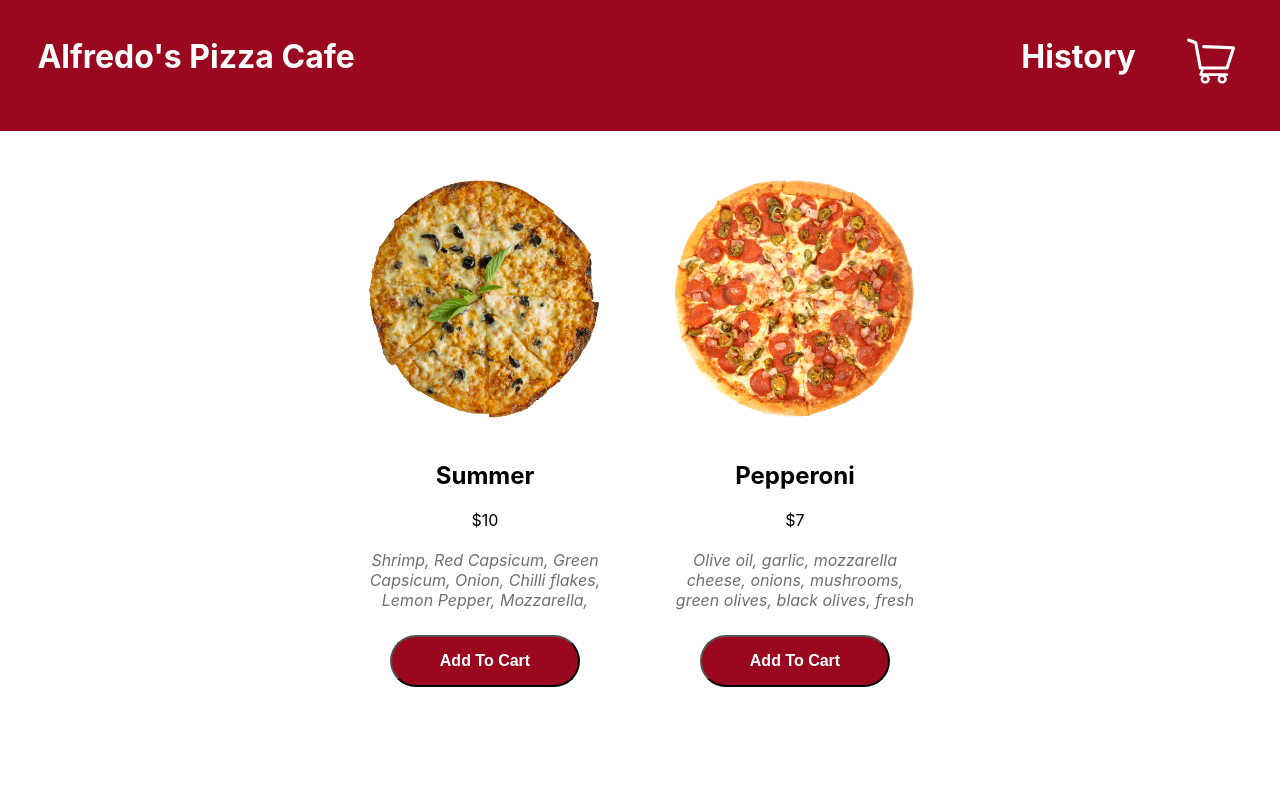
decreases the number of products
This screenshot has width=1280, height=800.
Click the button "Add To Cart" below "Summer": {"x": 485, "y": 661} [390,635,580,687]
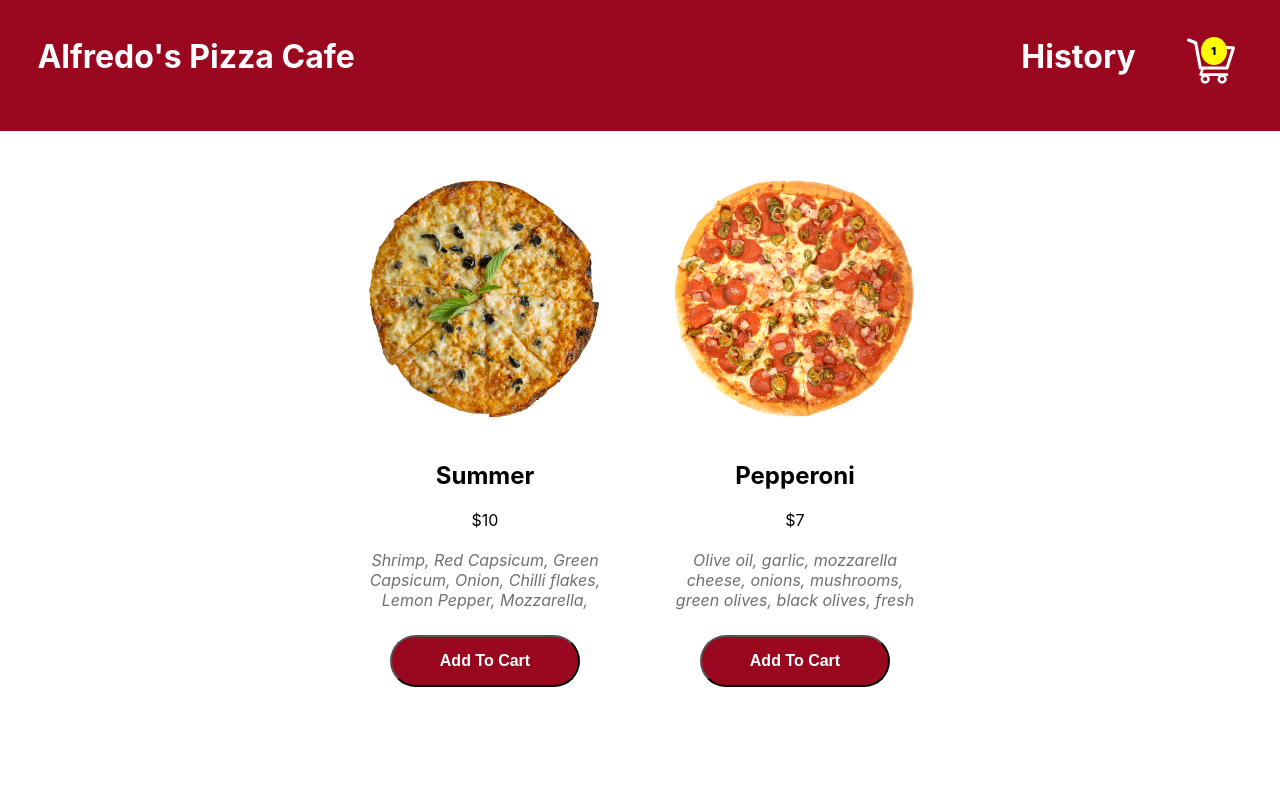
Click the button "Add To Cart" below "Summer": {"x": 485, "y": 661} [390,635,580,687]
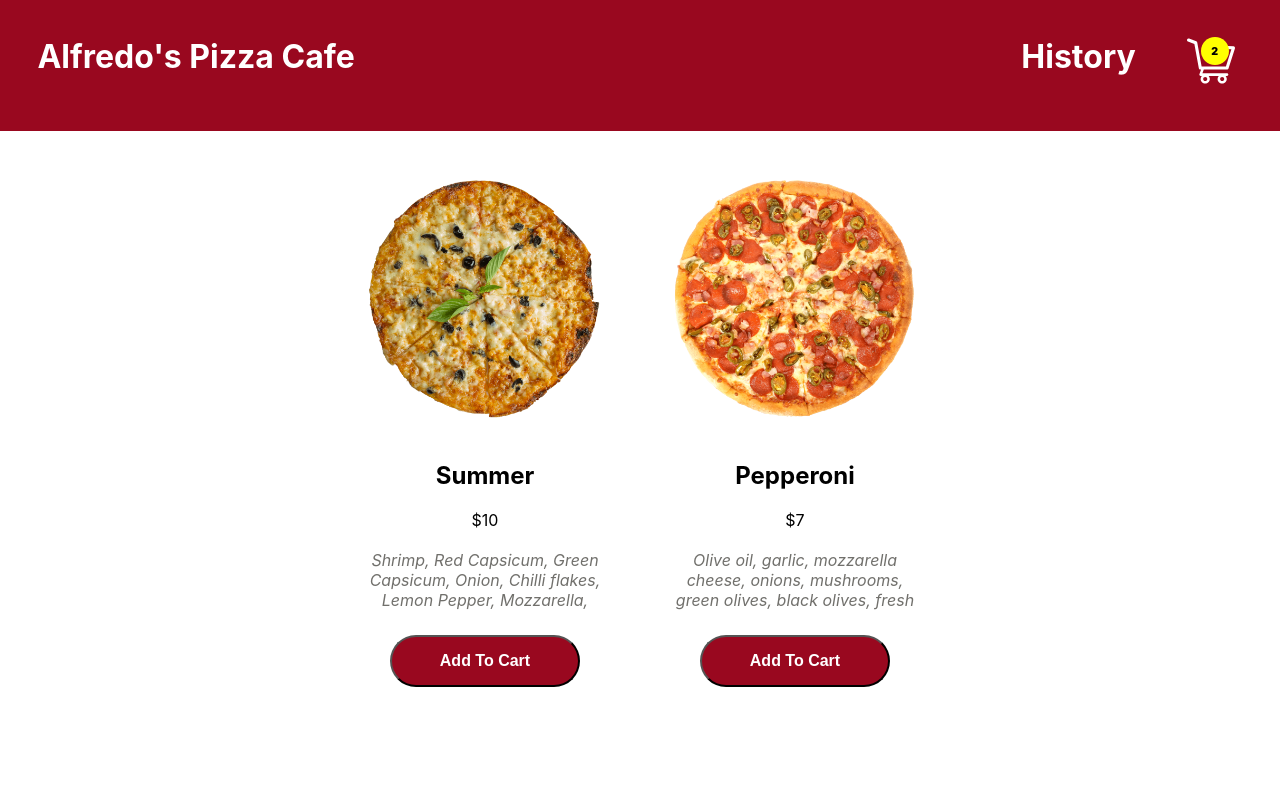
Click the button "Add To Cart" below "Pepperoni": {"x": 795, "y": 661} [700,635,890,687]
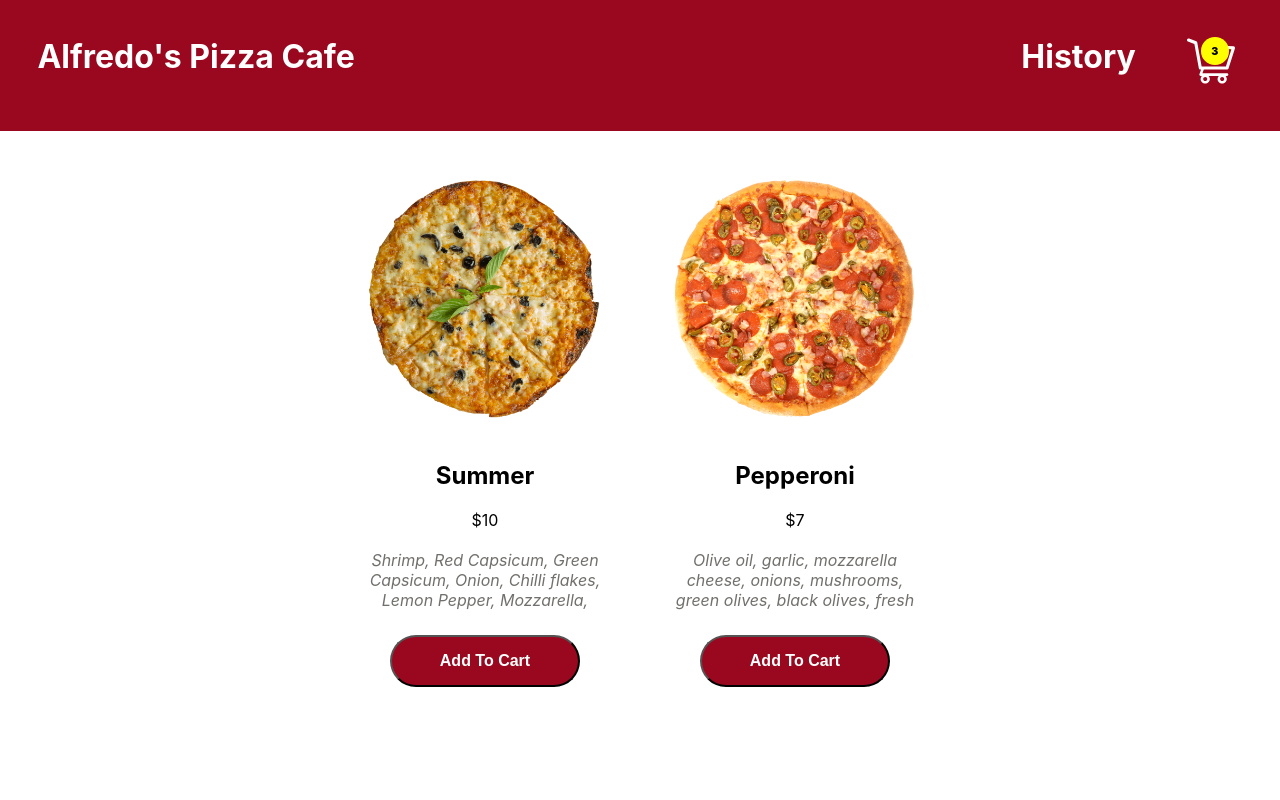
Click the button "Add To Cart" below "Pepperoni": {"x": 795, "y": 661} [700,635,890,687]
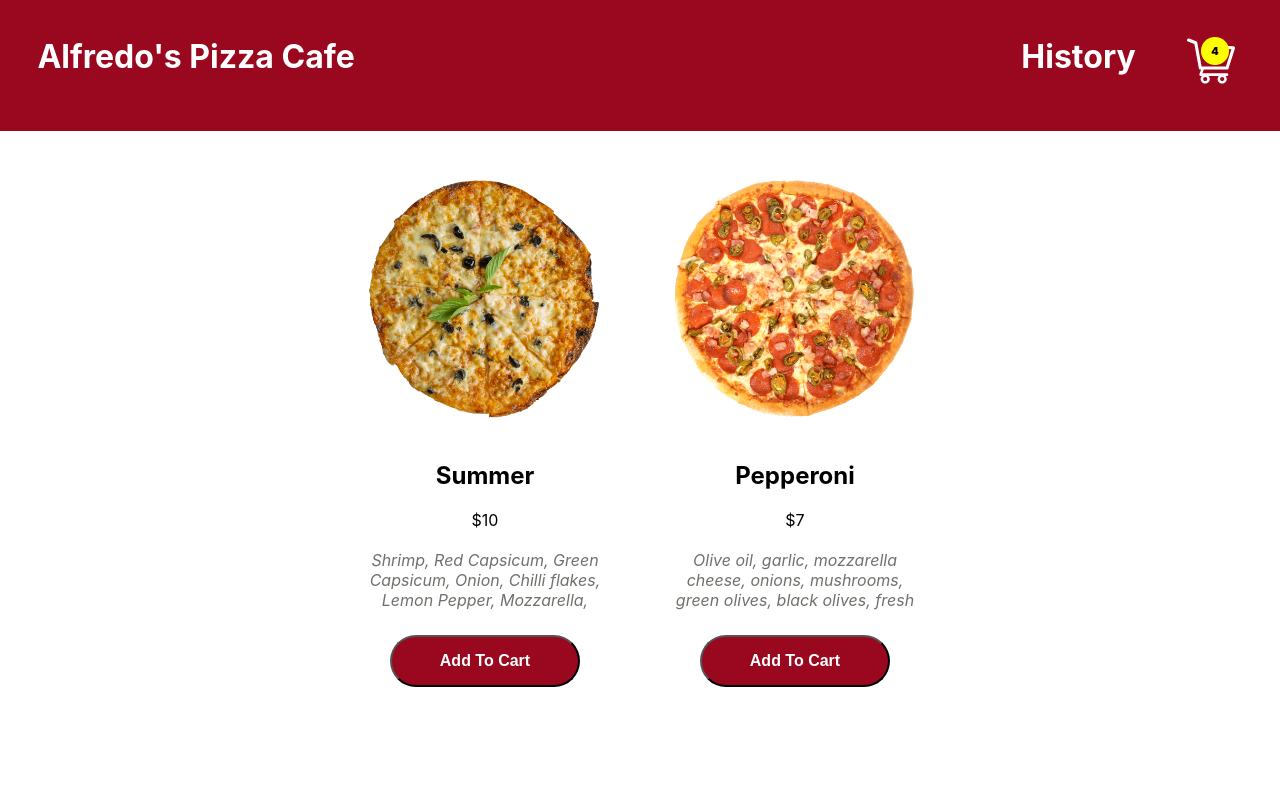
Click the link with class "CartButton": {"x": 1211, "y": 37} [1179,37,1243,93]
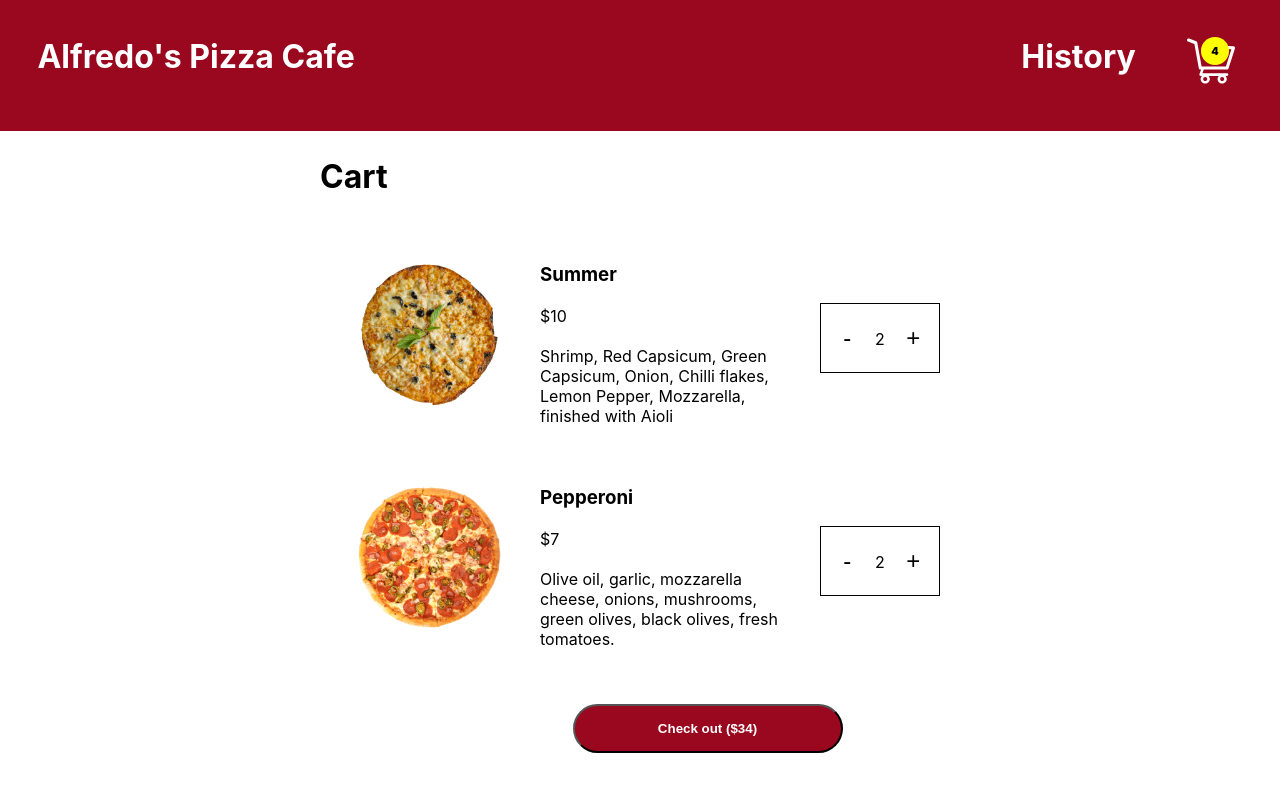
Click the button "-" below "Summer": {"x": 847, "y": 338} [831,314,864,362]
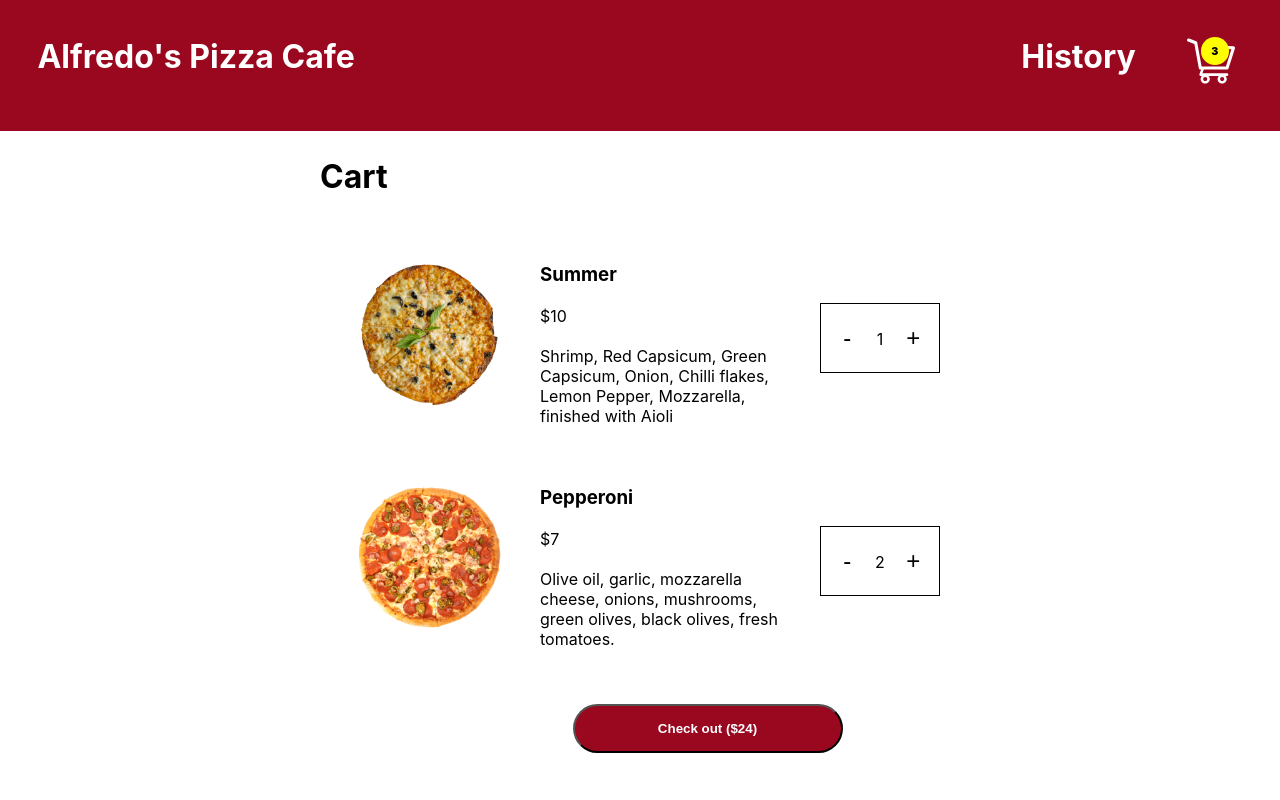
Expected: the text with class "CartButton-counter" reads "3", [1211,45,1218,58]
